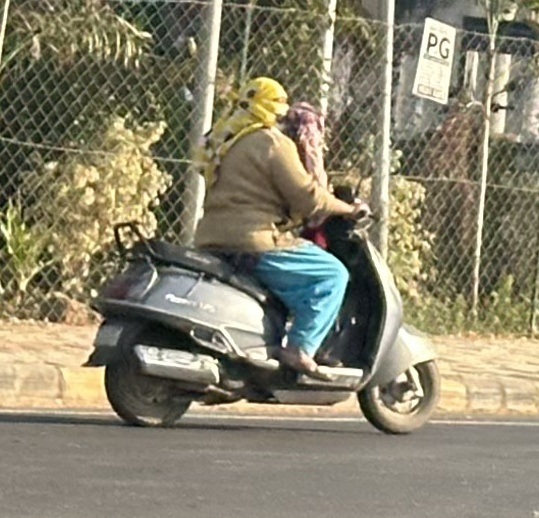BikeWithRider: (82, 56, 431, 444)
NoHelmet: (234, 73, 291, 134), (285, 102, 330, 151)
